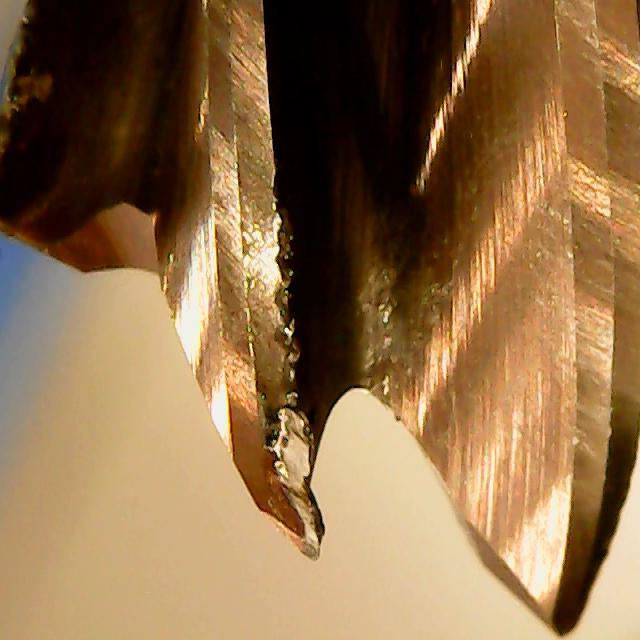Tool-wear-class-2: (171, 263, 349, 567)
